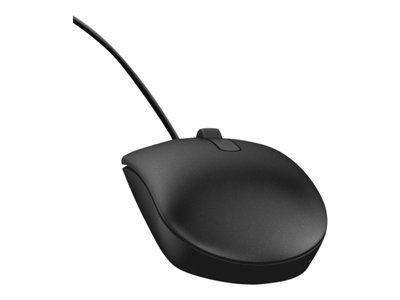dell-mouse-ms116: (71, 13, 329, 283)
